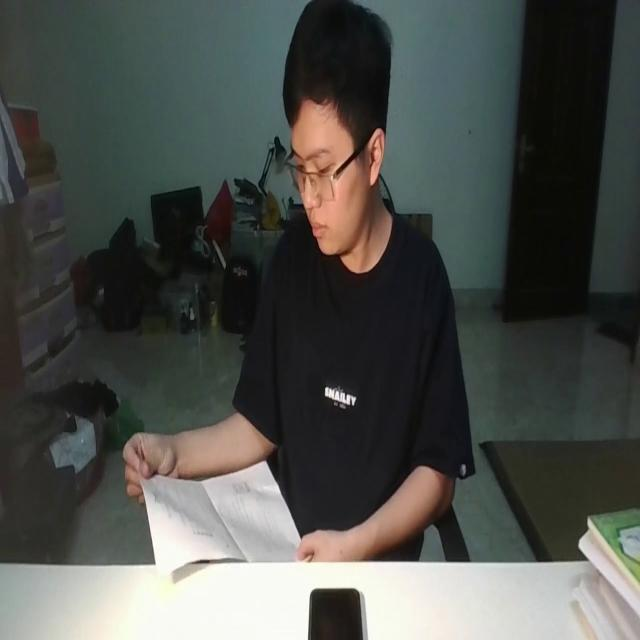book: (136, 459, 309, 564)
phone: (308, 583, 363, 640)
student: (121, 0, 475, 560)
